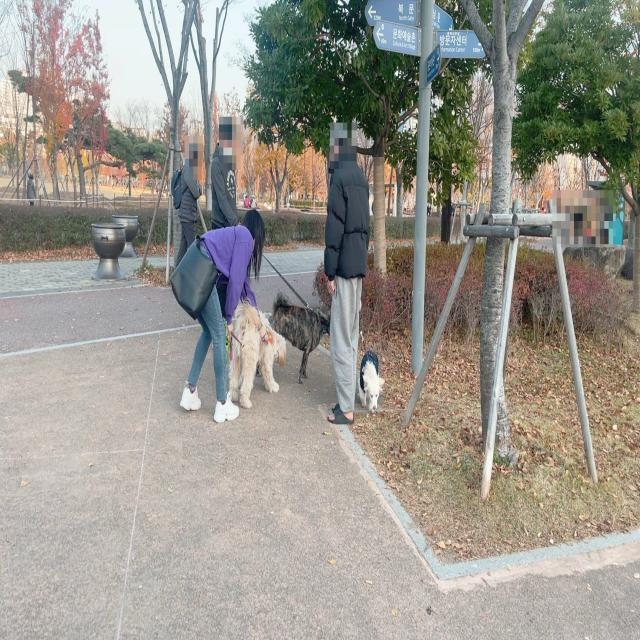Leashed_Dog: (225, 212, 337, 386), (200, 266, 286, 409), (340, 270, 386, 413)
